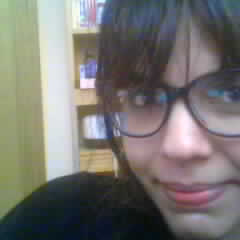without_mask: (112, 15, 240, 236)
